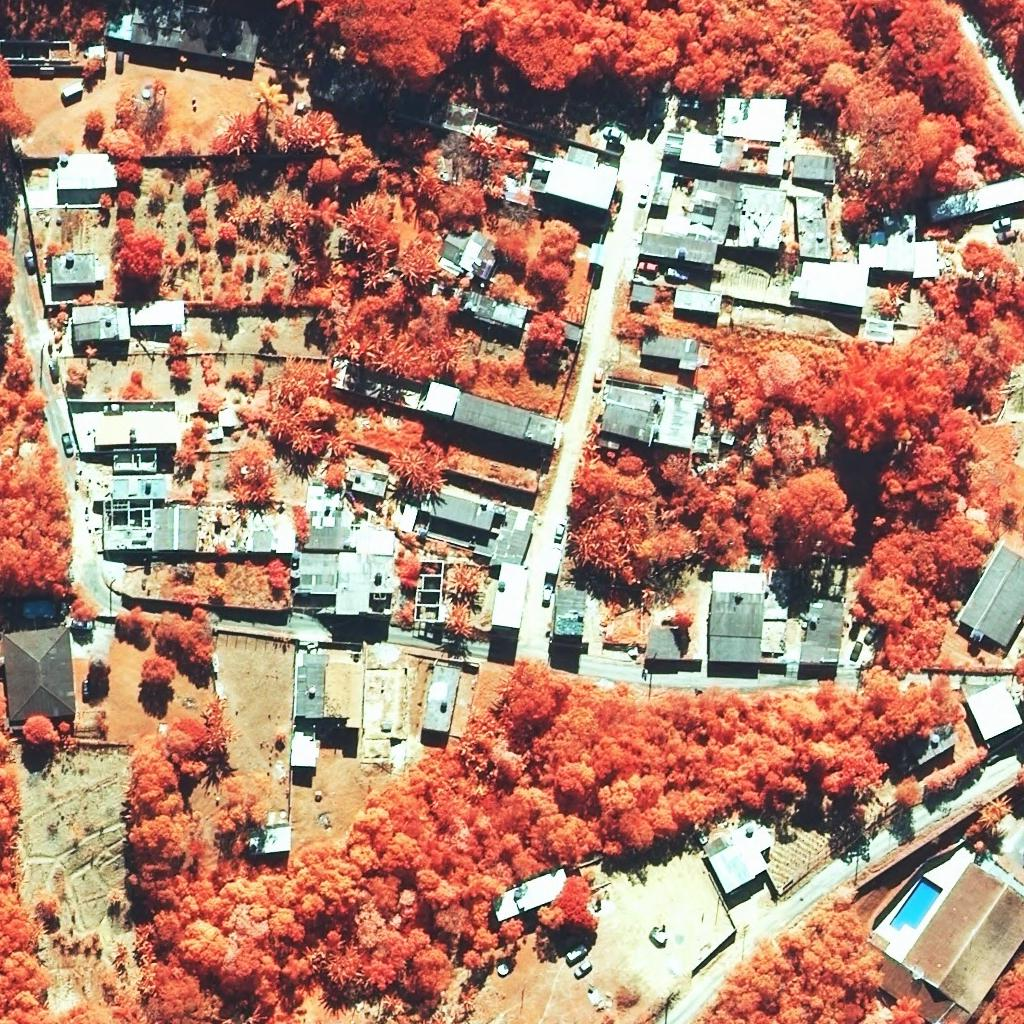pool: (889, 876, 943, 931)
